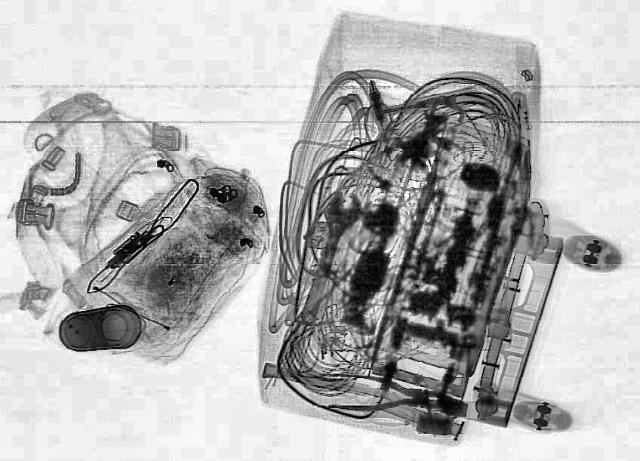Pliers: (320, 370, 446, 418)
Wrench: (289, 190, 369, 324)
